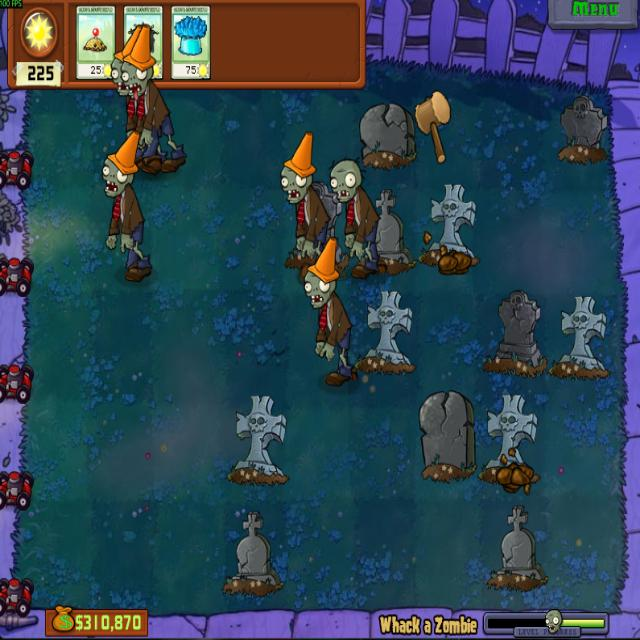conehead: (98, 131, 141, 198), (301, 238, 339, 310), (279, 131, 316, 202), (123, 25, 154, 98), (111, 25, 141, 95)
grave: (479, 392, 541, 489), (480, 289, 547, 376), (228, 392, 288, 488), (417, 389, 477, 484), (486, 503, 550, 589), (353, 290, 417, 376), (222, 507, 283, 595), (422, 182, 480, 268), (551, 295, 609, 378), (360, 187, 414, 275), (358, 101, 417, 166), (555, 94, 611, 161), (300, 183, 344, 262)
gravebuster: (123, 5, 163, 81)
zombie: (327, 156, 362, 202)
